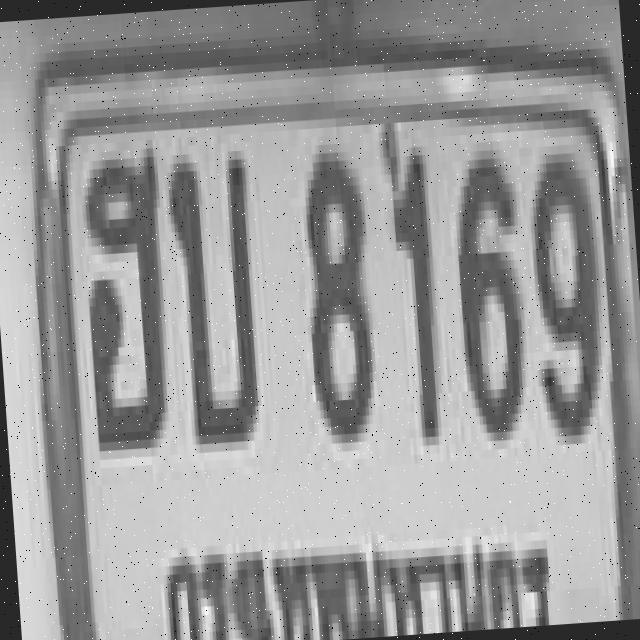1: (378, 138, 442, 438)
35BorBaiMai: (162, 142, 260, 445)
53HorNokHook: (74, 140, 172, 442)
6: (447, 140, 525, 434)
8: (295, 142, 377, 436)
9: (522, 143, 604, 437)
